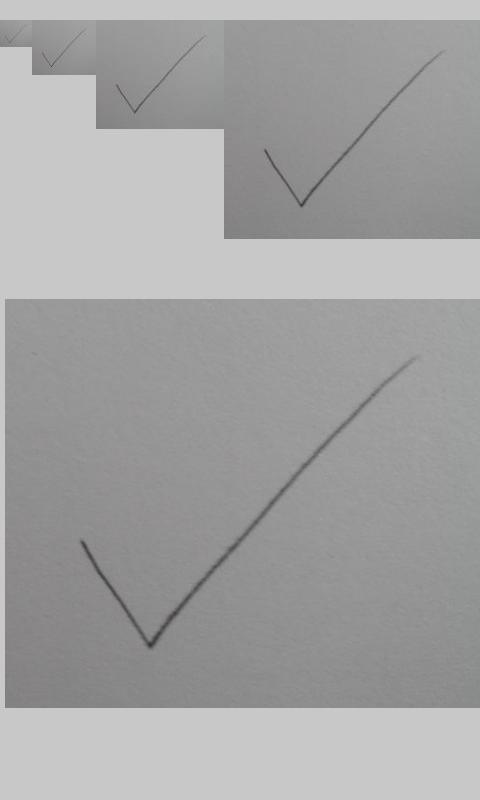check_box: (78, 357, 415, 652), (264, 51, 443, 208), (115, 36, 205, 114), (41, 28, 86, 67), (5, 26, 24, 44)
